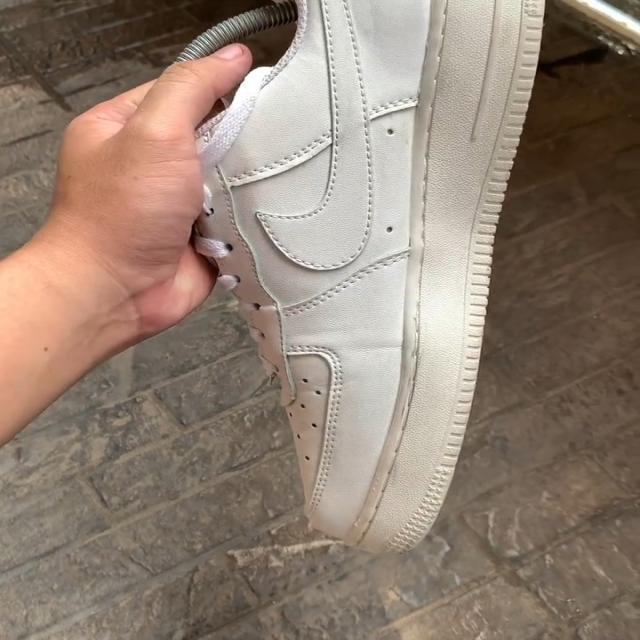nike fake air force: (148, 0, 560, 559)
